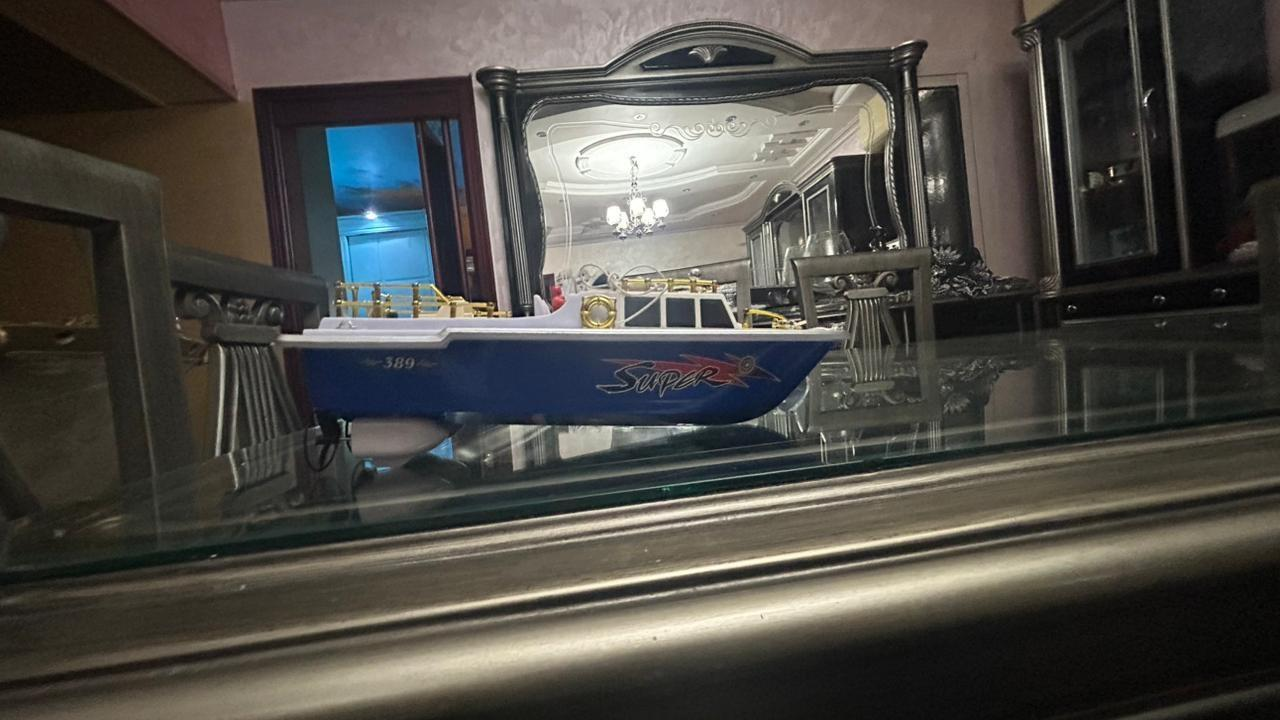Boat: (267, 275, 853, 478)
